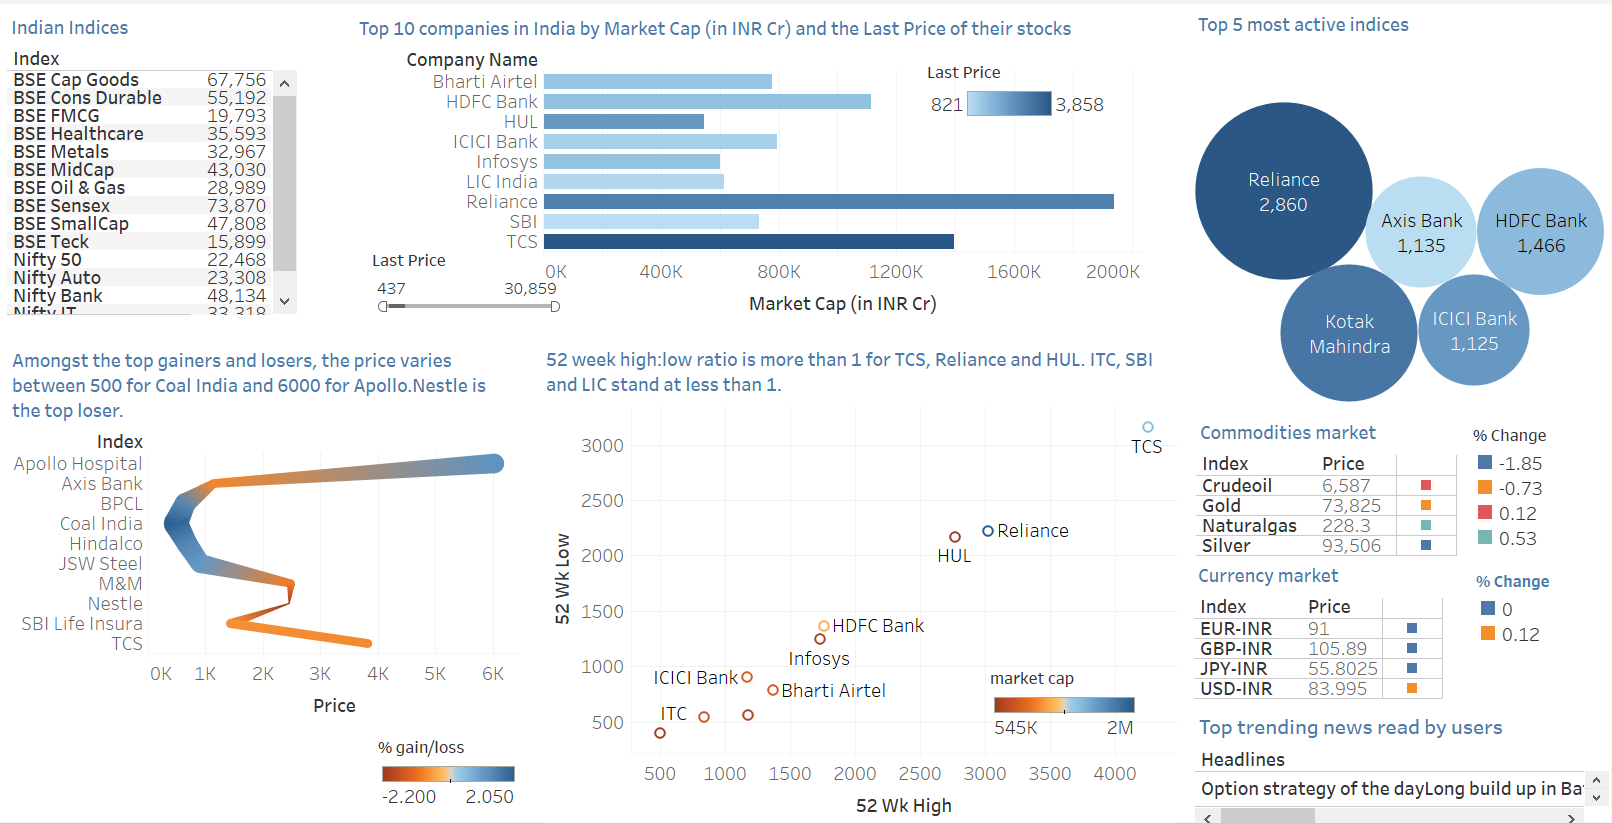

What the dashboard file says about the page in this screenshot:
{"tool":"tableau","page":{"name":"Dashboard 1","canvas":[1000,1000],"units":"permille","ordinal":0},"visuals":[{"type":"worksheet","title":"Sheet 5","mark":"Circle","box":[741.8,3.7,253.9,583.1]},{"type":"worksheet","title":"Sheet 7","mark":"Automatic","rows":["index"],"box":[6.8,7.3,192,372.9]},{"type":"worksheet","title":"Sheet 1","mark":"Automatic","rows":["company_name"],"cols":["market_cap_cr"],"box":[222.3,8.6,487.9,407.1]},{"type":"legend","title":"Sheet 1","param":"[federated.05e1req1hmbx761c265io1ygi77f].[sum:last_price:qk]","box":[576.5,69.7,112.7,122.2]},{"type":"filter","title":"Sheet 1","param":"[federated.05e1req1hmbx761c265io1ygi77f].[sum:last_price:qk]","box":[232.8,299.5,118.9,96.6]},{"type":"worksheet","title":"Sheet 2","mark":"Automatic","rows":["52_wk_low"],"cols":["52_wk_high"],"box":[338.1,413.2,393.2,589.2]},{"type":"worksheet","title":"Sheet 6","mark":"Line","rows":["index"],"cols":["price"],"box":[7.4,414.4,317.7,572.1]},{"type":"worksheet","title":"Sheet 3","mark":"Automatic","rows":["index","price"],"box":[743,502.4,168.4,190.7]},{"type":"legend","title":"Sheet 3","param":"[federated.10vjm611kh57oc15uk4hj1qanixf].[none:perc_change:ok]","box":[914.6,513.5,77.4,161.4]},{"type":"worksheet","title":"Sheet 4","mark":"Automatic","rows":["index","price"],"box":[741.8,677.3,162.2,172.4]},{"type":"legend","title":"Sheet 4","param":"[federated.0fg9qdn0t5suwl13vjtth1u2rvwn].[sum:perc_change:ok]","box":[916.4,691.9,69.4,92.9]},{"type":"legend","title":"Sheet 2","param":"[federated.05e1req1hmbx761c265io1ygi77f].[sum:market_cap_cr:qk]","box":[615.5,810.5,92.3,102.7]},{"type":"legend","title":"Sheet 6","param":"[federated.1k7kp9i0lf7jvg1asbx0k1jwehfo].[sum:perc_gain:qk]","box":[236.5,894.9,87.3,84.4]}]}

Visuals, with their boxes on the dashboard's canvas, which has no fixed pixel size, in thousandths of its width and height (x1, y1, x2, y2). These are canvas units, not pixel positions in the 1612x824 screenshot, which may show the page scaled, cropped or inside an application window:
"Sheet 5" worksheet (Circle marks): bbox=(742, 4, 996, 587)
"Sheet 7" worksheet: bbox=(7, 7, 199, 380)
"Sheet 1" worksheet: bbox=(222, 9, 710, 416)
"Sheet 1" legend: bbox=(576, 70, 689, 192)
"Sheet 1" filter: bbox=(233, 300, 352, 396)
"Sheet 2" worksheet: bbox=(338, 413, 731, 1002)
"Sheet 6" worksheet (Line marks): bbox=(7, 414, 325, 986)
"Sheet 3" worksheet: bbox=(743, 502, 911, 693)
"Sheet 3" legend: bbox=(915, 514, 992, 675)
"Sheet 4" worksheet: bbox=(742, 677, 904, 850)
"Sheet 4" legend: bbox=(916, 692, 986, 785)
"Sheet 2" legend: bbox=(616, 810, 708, 913)
"Sheet 6" legend: bbox=(236, 895, 324, 979)
